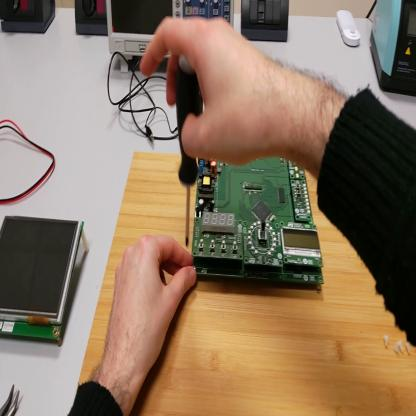hand: (141, 16, 275, 167), (105, 233, 197, 379)
low voltage board: (194, 162, 329, 286)
oscilloscope: (105, 1, 236, 73)
pliers: (2, 382, 22, 414)
screwdriver-: (178, 62, 207, 259)
socket: (2, 2, 57, 37), (75, 2, 109, 36)
welder station: (372, 1, 416, 96)
working area: (80, 151, 416, 416)
